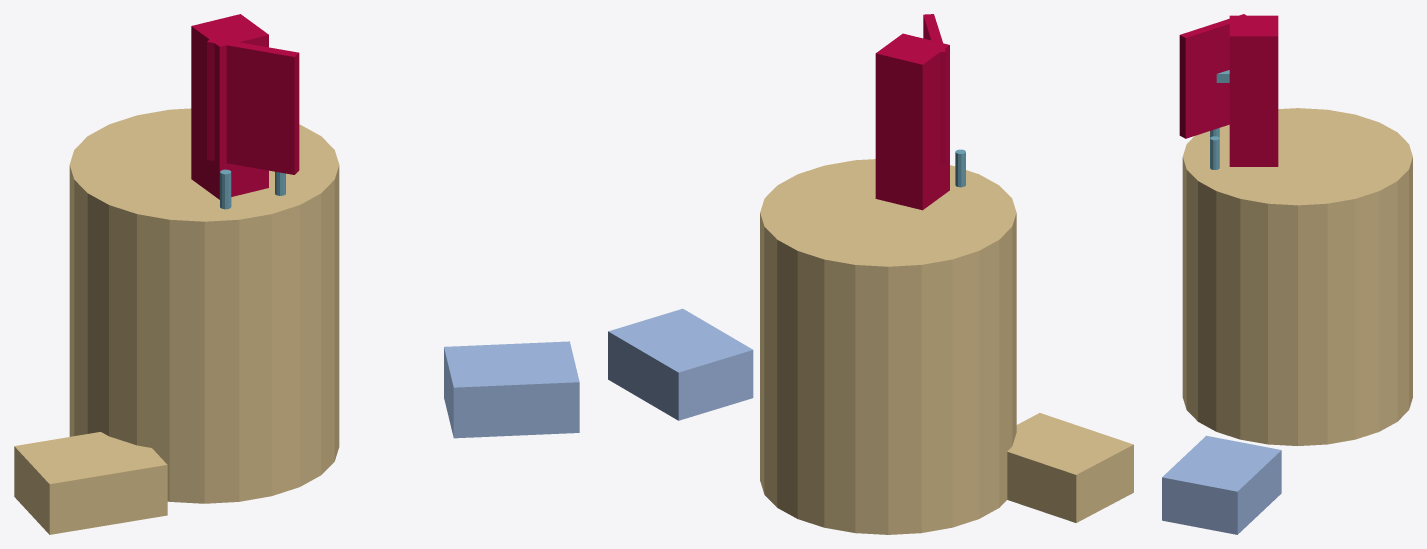
File: folie_tag_112.glb
3 renders of one model, left to right at view 1: azimuth 30°, elevation 25°; view 2: azimuth 150°, elevation 25°; view 3: azimuth 270°, elevation 25°, orthographic. The views are drawn at different scales.
Visible parts, largest first — view 1: folie_tag_112_00_drum, folie_tag_112_02_block, folie_tag_112_01_block, folie_tag_112_03_panel, folie_tag_112_core, folie_tag_112_line; view 2: folie_tag_112_00_drum, folie_tag_112_01_block, folie_tag_112_core, folie_tag_112_02_block, folie_tag_112_03_panel; view 3: folie_tag_112_00_drum, folie_tag_112_01_block, folie_tag_112_core, folie_tag_112_03_panel, folie_tag_112_line.
Part boxes in pixels (x1,y1,x2,y2): folie_tag_112_00_drum: [69, 108, 339, 503]; folie_tag_112_02_block: [14, 432, 167, 534]; folie_tag_112_01_block: [444, 341, 579, 438]; folie_tag_112_03_panel: [207, 37, 299, 174]; folie_tag_112_core: [191, 14, 268, 199]; folie_tag_112_line: [220, 169, 285, 209]; folie_tag_112_00_drum: [760, 159, 1016, 534]; folie_tag_112_01_block: [608, 308, 753, 420]; folie_tag_112_core: [875, 33, 949, 210]; folie_tag_112_02_block: [1007, 413, 1133, 522]; folie_tag_112_03_panel: [923, 14, 945, 164]; folie_tag_112_00_drum: [1182, 108, 1412, 445]; folie_tag_112_01_block: [1162, 435, 1281, 534]; folie_tag_112_core: [1229, 15, 1278, 166]; folie_tag_112_03_panel: [1179, 14, 1248, 138]; folie_tag_112_line: [1210, 70, 1229, 169].
Size of the model in its own units: 11.94 by 9.26 by 5.67.
